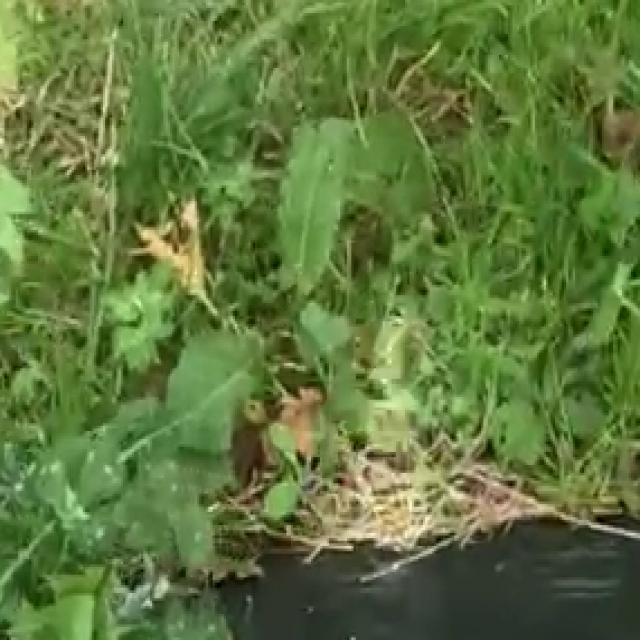organic waste: (49, 311, 302, 627), (273, 89, 445, 347)
